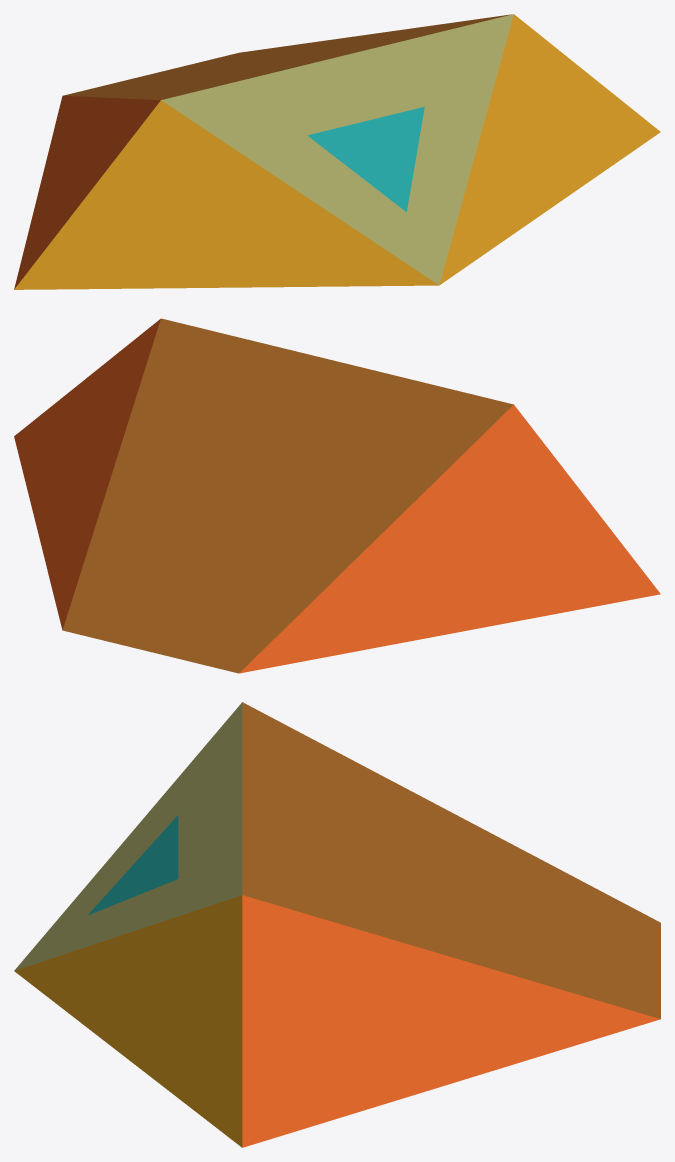
File: arc_moray.glb
3 renders of one model, top to bottom at view 1: azimuth 30°, elevation 25°; view 2: azimuth 150°, elevation 25°; view 3: azimuth 270°, elevation 25°, orthographic. The views are drawn at different scales.
Visible parts, largest first — view 1: griff_arcelite_moray; view 2: griff_arcelite_moray; view 3: griff_arcelite_moray.
Part boxes in pixels (bbox=[...]): griff_arcelite_moray: bbox=[14, 14, 660, 289]; griff_arcelite_moray: bbox=[14, 318, 660, 673]; griff_arcelite_moray: bbox=[14, 702, 660, 1147].
Size of the model in its own units: 0.836 by 0.19 by 0.646.
1 material, 1 textured.
